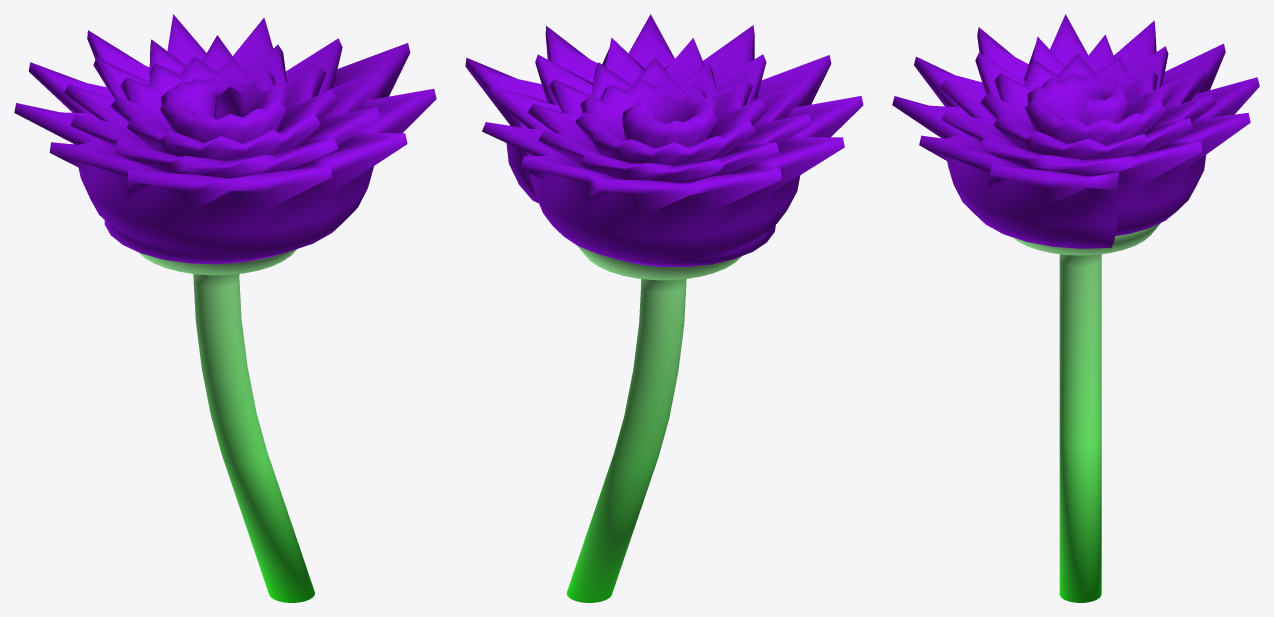
Rendered from flower.fbx.
3 renders of one model, left to right at view 1: azimuth 30°, elevation 25°; view 2: azimuth 150°, elevation 25°; view 3: azimuth 270°, elevation 25°, orthographic. The views are drawn at different scales.
Visible parts, largest first — view 1: Circle.003; view 2: Circle.003; view 3: Circle.003.
Boxes of the visible parts, x1,y1,x2,y2 form: Circle.003: [14, 14, 436, 602]; Circle.003: [465, 14, 863, 602]; Circle.003: [892, 14, 1259, 602].
Size of the model in its own units: 15.45 by 20.5 by 14.54.
2 materials, 1 textured.
